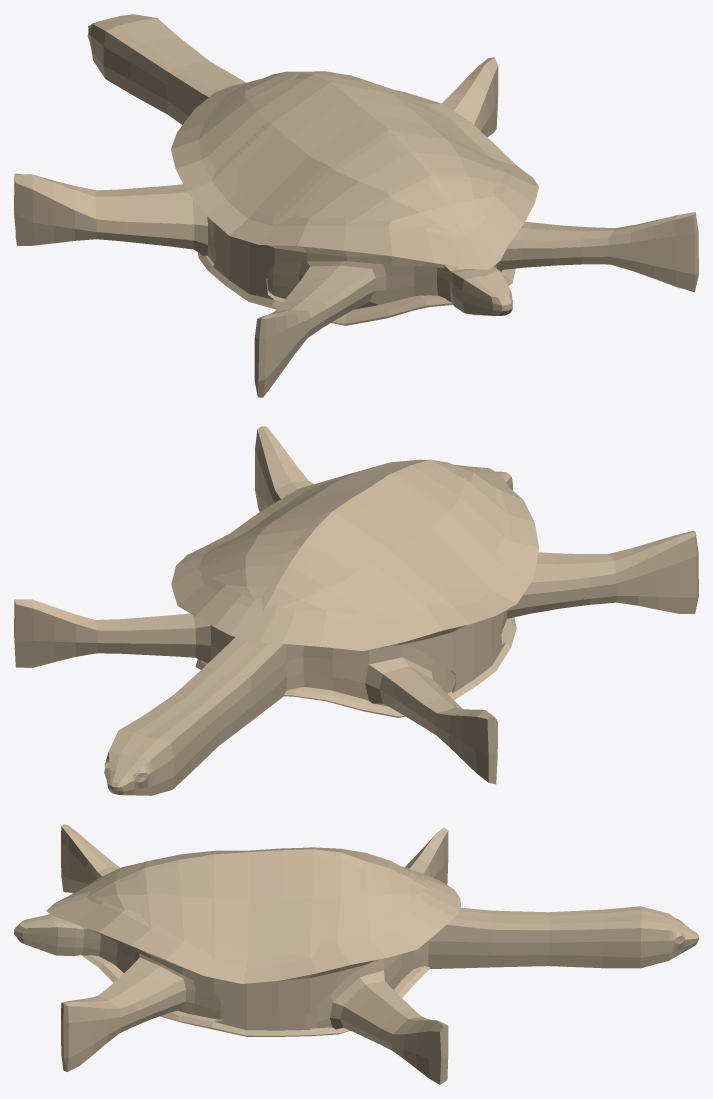
The model's file is baxia.glb.
3 views of the same model, one above another, from view 1: azimuth 30°, elevation 25°; view 2: azimuth 150°, elevation 25°; view 3: azimuth 270°, elevation 25° (orthographic). The views are drawn at different scales.
Parts seen in each view (by area): view 1: Plane; view 2: Plane; view 3: Plane.
Boxes of the visible parts, x1,y1,x2,y2 form: Plane: (14,14,698,397); Plane: (14,426,698,795); Plane: (14,824,698,1084).
Size of the model in its own units: 7.07 by 2.34 by 10.22.
